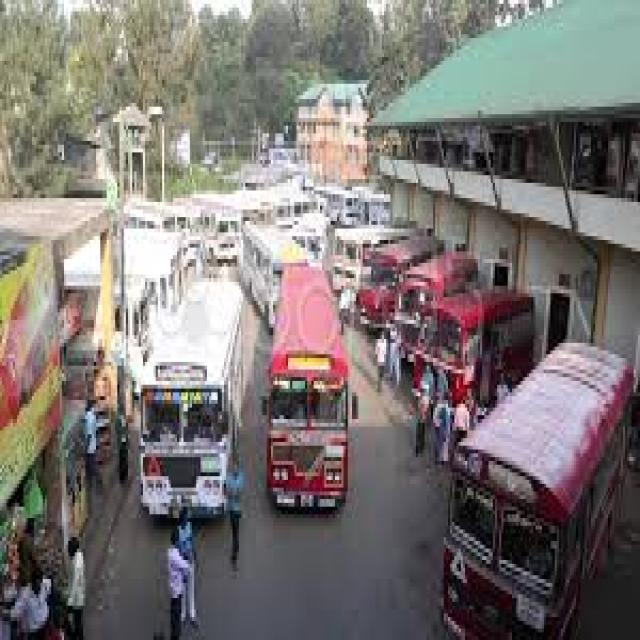bus: (444, 347, 629, 640), (141, 282, 241, 518), (267, 270, 346, 510), (414, 290, 531, 408), (395, 251, 476, 362), (239, 225, 305, 331), (356, 240, 420, 331), (316, 183, 388, 225), (205, 221, 237, 274)
person: (11, 568, 60, 640), (169, 533, 188, 640), (177, 510, 194, 625), (226, 461, 241, 571), (85, 404, 100, 514), (68, 537, 83, 640), (433, 400, 448, 465), (416, 392, 429, 457), (117, 411, 128, 484), (452, 400, 467, 446), (388, 324, 399, 385), (375, 335, 386, 392)
